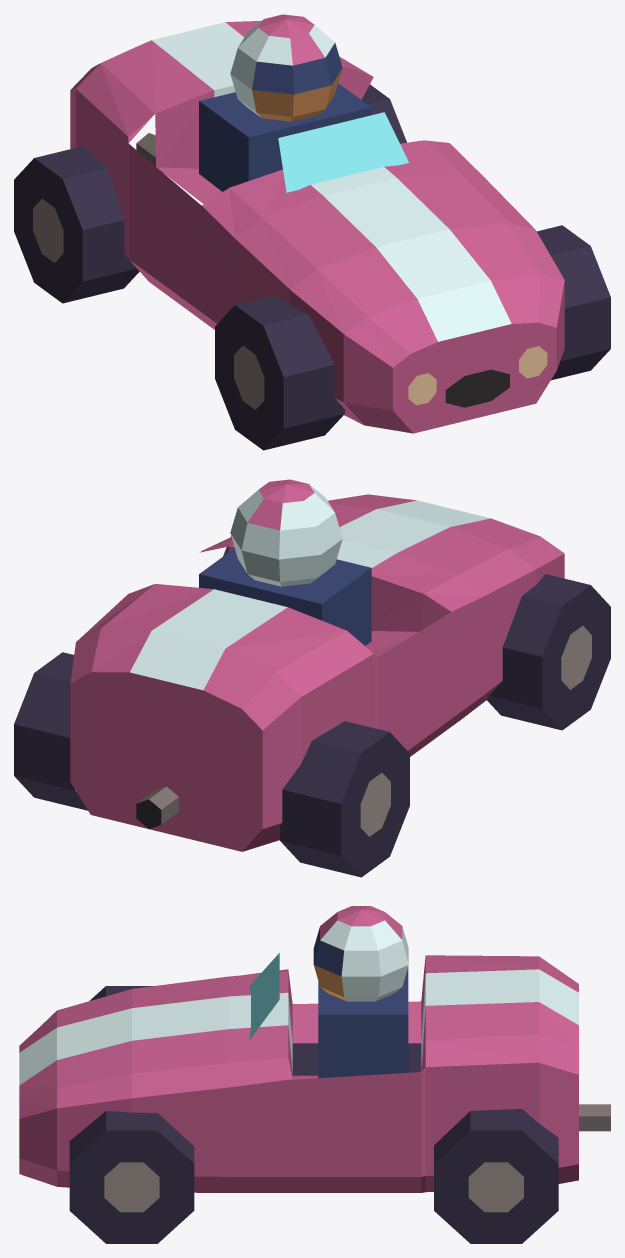
The model's file is racer_pink.glb.
3 views of the same model, one above another, from view 1: azimuth 30°, elevation 25°; view 2: azimuth 150°, elevation 25°; view 3: azimuth 270°, elevation 25° (orthographic). The views are drawn at different scales.
Visible parts, largest first — view 1: Racer; view 2: Racer; view 3: Racer.
Boxes of the visible parts, <box> form: Racer: <box>14,14,610,450</box>; Racer: <box>14,479,610,877</box>; Racer: <box>19,906,610,1243</box>.
Bounding box in the file's own units: 1.6 × 1.35 × 2.78.
